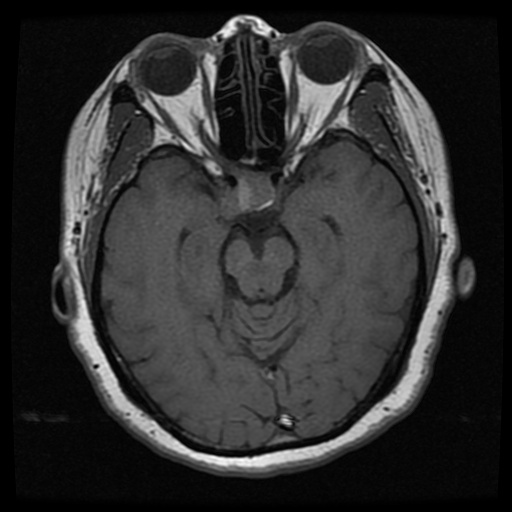pituitary: (221, 170, 275, 219)
